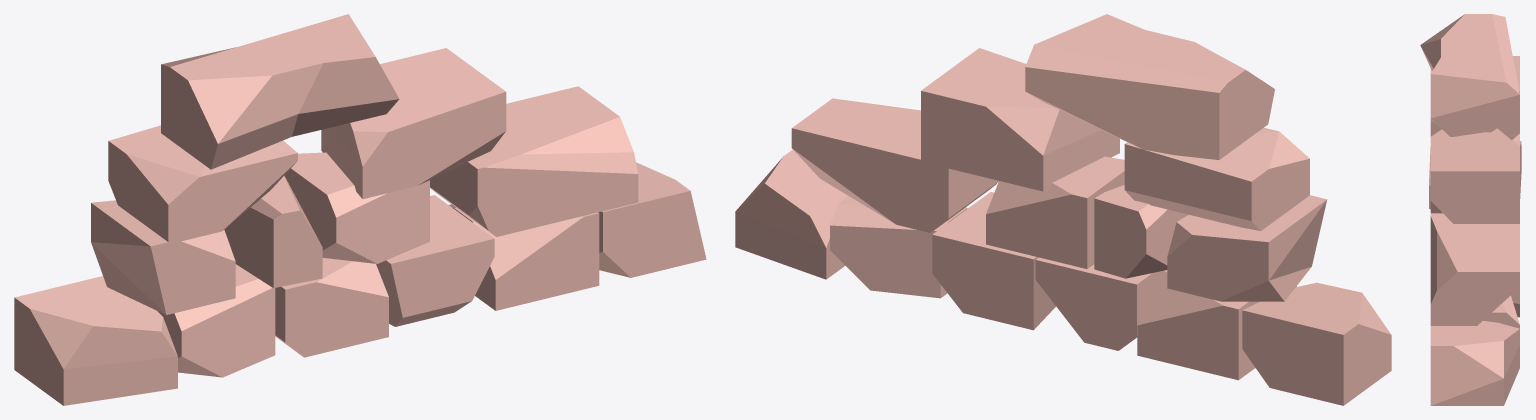
Rendered from Mega_Asset_s_Pack_Cube_222.FBX.
3 renders of one model, left to right at view 1: azimuth 30°, elevation 25°; view 2: azimuth 150°, elevation 25°; view 3: azimuth 270°, elevation 25°, orthographic. The views are drawn at different scales.
Parts seen in each view (by area): view 1: Mega_Asset_s_Pack_Cube_222; view 2: Mega_Asset_s_Pack_Cube_222; view 3: Mega_Asset_s_Pack_Cube_222.
Boxes of the visible parts, x1,y1,x2,y2 form: Mega_Asset_s_Pack_Cube_222: (14, 14, 706, 405); Mega_Asset_s_Pack_Cube_222: (735, 14, 1391, 405); Mega_Asset_s_Pack_Cube_222: (1420, 14, 1521, 405).
Size of what is drawn, in the model's own units: 390 by 72.78 by 167.
